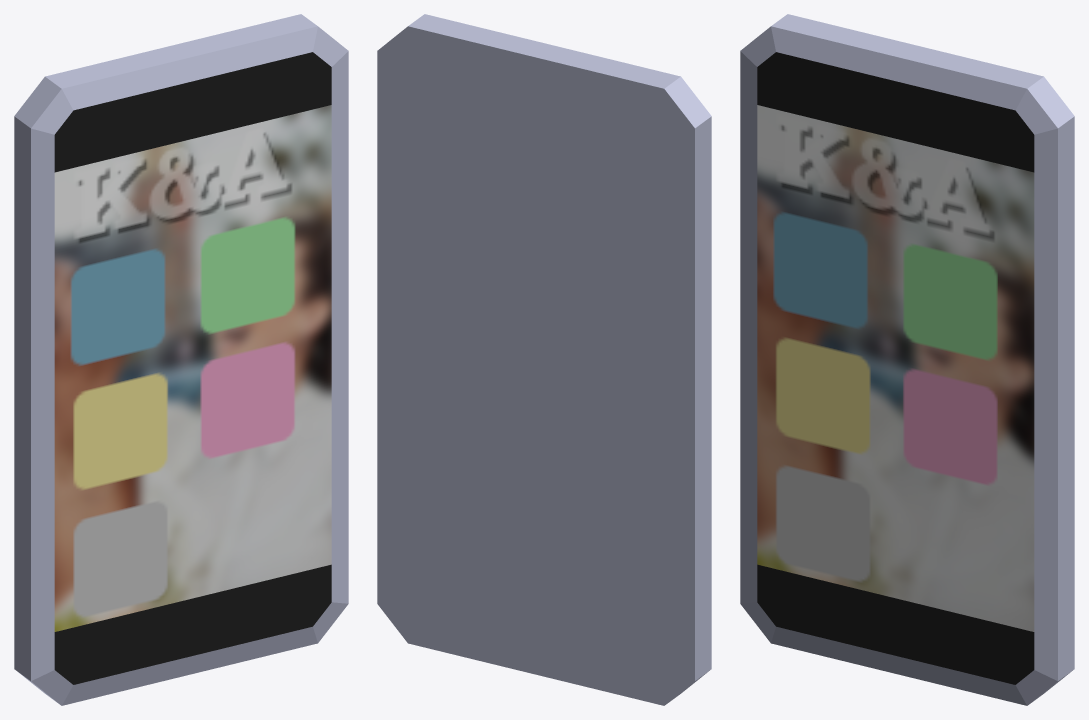
Rendered from Phone.fbx.
3 renders of one model, left to right at view 1: azimuth 30°, elevation 25°; view 2: azimuth 150°, elevation 25°; view 3: azimuth 330°, elevation 25°, orthographic.
Parts seen in each view (by area): view 1: Cube; view 2: Cube; view 3: Cube.
Part boxes in pixels (box(x1,y1,x2,y2)): Cube: box(14, 14, 348, 705); Cube: box(377, 14, 711, 705); Cube: box(740, 14, 1074, 705).
Size of the model in its own units: 0.1125 by 0.2088 by 0.0123.
